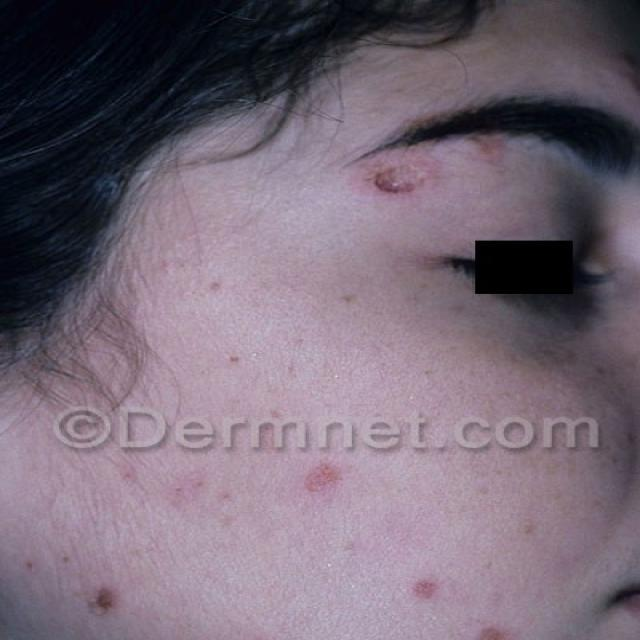Acne: (357, 153, 467, 209), (274, 445, 358, 507), (74, 571, 130, 619), (471, 596, 527, 640), (408, 569, 461, 614)
